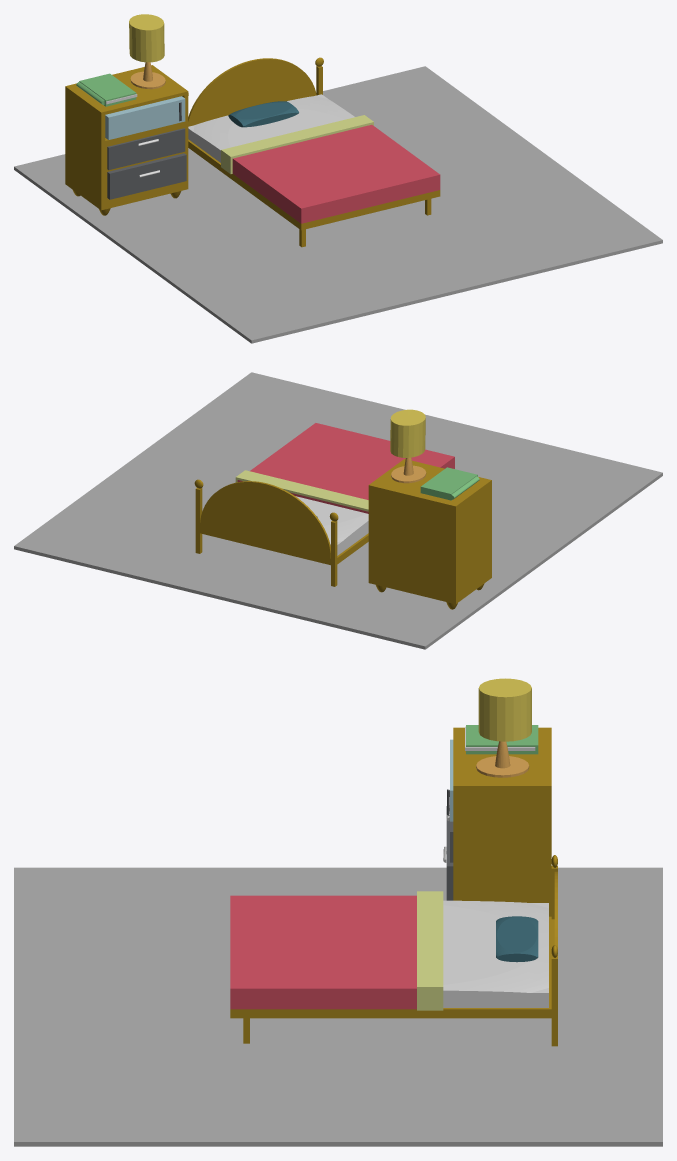
Rendered from bedroom.glb.
3 renders of one model, top to bottom at view 1: azimuth 30°, elevation 25°; view 2: azimuth 150°, elevation 25°; view 3: azimuth 270°, elevation 25°, orthographic. The views are drawn at different scales.
Visible parts, largest first — view 1: Mesh_Mesh_head_geo.001_lambert2SG.001; view 2: Mesh_Mesh_head_geo.001_lambert2SG.001; view 3: Mesh_Mesh_head_geo.001_lambert2SG.001.
Boxes of the visible parts, x1,y1,x2,y2 form: Mesh_Mesh_head_geo.001_lambert2SG.001: (14, 14, 662, 343); Mesh_Mesh_head_geo.001_lambert2SG.001: (14, 372, 662, 649); Mesh_Mesh_head_geo.001_lambert2SG.001: (14, 678, 662, 1146).
Bounding box in the file's own units: 198 × 79 × 198.
